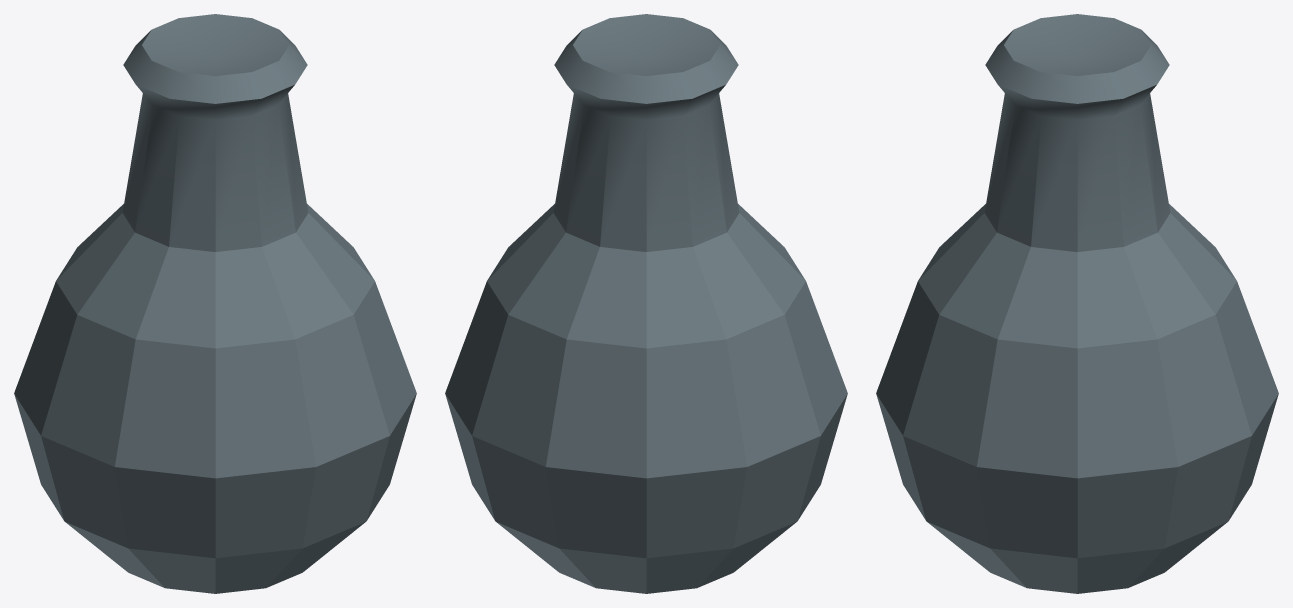
The model's file is flaskwaw.fbx.
3 renders of one model, left to right at view 1: azimuth 30°, elevation 25°; view 2: azimuth 150°, elevation 25°; view 3: azimuth 270°, elevation 25°, orthographic.
Visible parts, largest first — view 1: pSphere2; view 2: pSphere2; view 3: pSphere2.
Boxes of the visible parts, x1,y1,x2,y2 form: pSphere2: (14, 14, 416, 593); pSphere2: (445, 14, 847, 593); pSphere2: (876, 14, 1278, 593).
Bounding box in the file's own units: 1.84 × 2.61 × 1.84.
